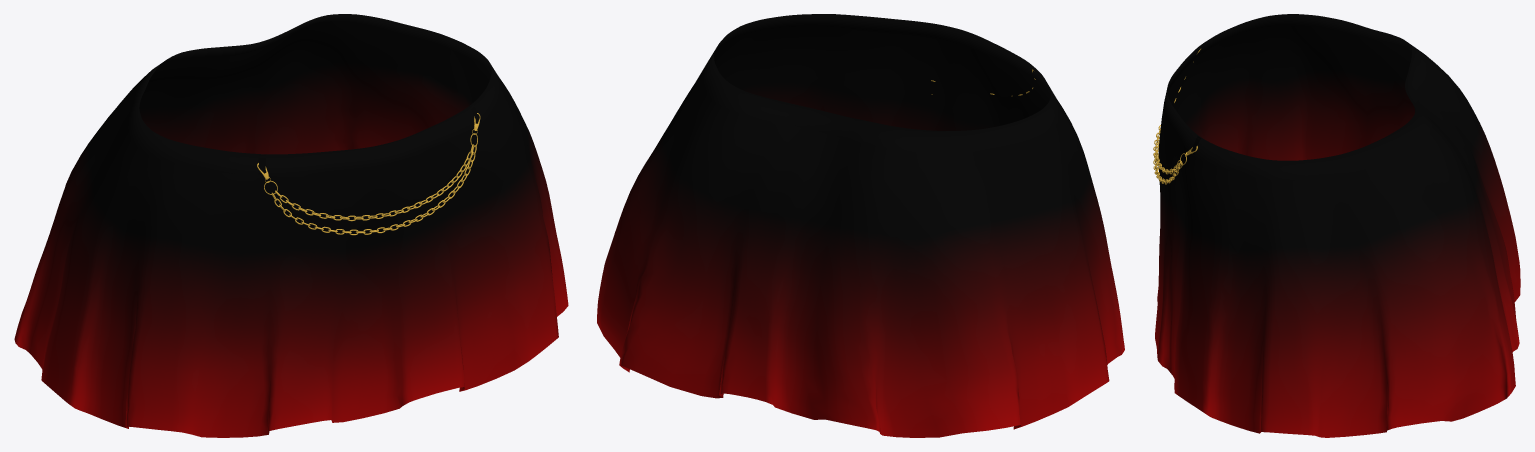
Rendered from skirt.glb.
3 renders of one model, left to right at view 1: azimuth 30°, elevation 25°; view 2: azimuth 150°, elevation 25°; view 3: azimuth 270°, elevation 25°, orthographic. The views are drawn at different scales.
Visible parts, largest first — view 1: skirt, chain; view 2: skirt; view 3: skirt, chain.
Part boxes in pixels (left/top/right/bottom): skirt: left=14, top=14, right=568, bottom=437; chain: left=257, top=113, right=480, bottom=235; skirt: left=597, top=14, right=1124, bottom=437; skirt: left=1155, top=14, right=1520, bottom=437; chain: left=1153, top=49, right=1200, bottom=184.
Bounding box in the file's own units: 0.4406 × 0.2452 × 0.3144.
3 materials, 1 textured.
